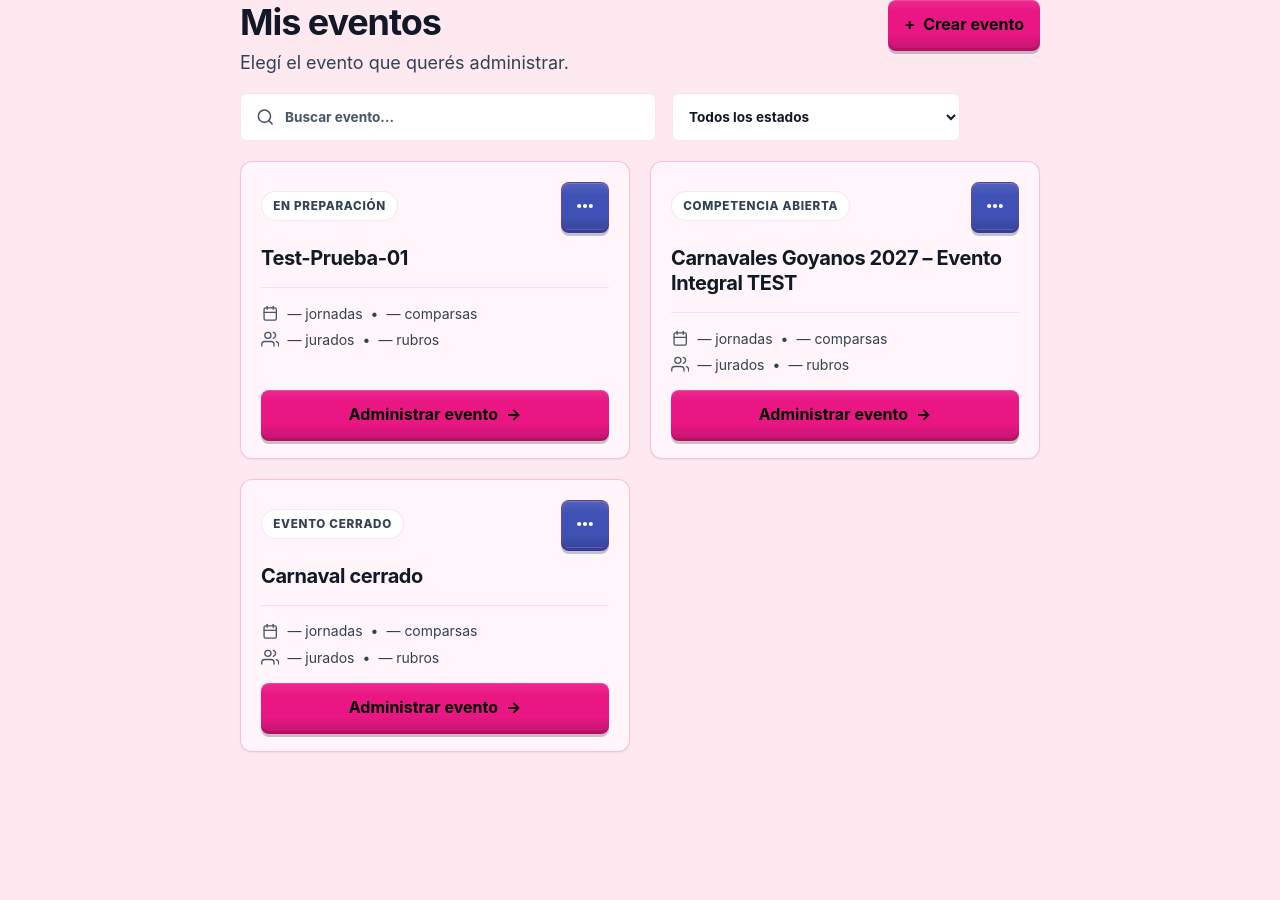
Test case: AdminHomePage (Rediseño a Mis eventos) › muestra mensaje de error humano cuando la API rechaza la eliminación por historial
This screenshot has width=1280, height=900.
Click the button named "Acciones de Test-Prueba-01" at (585, 206), box [561, 182, 609, 230]
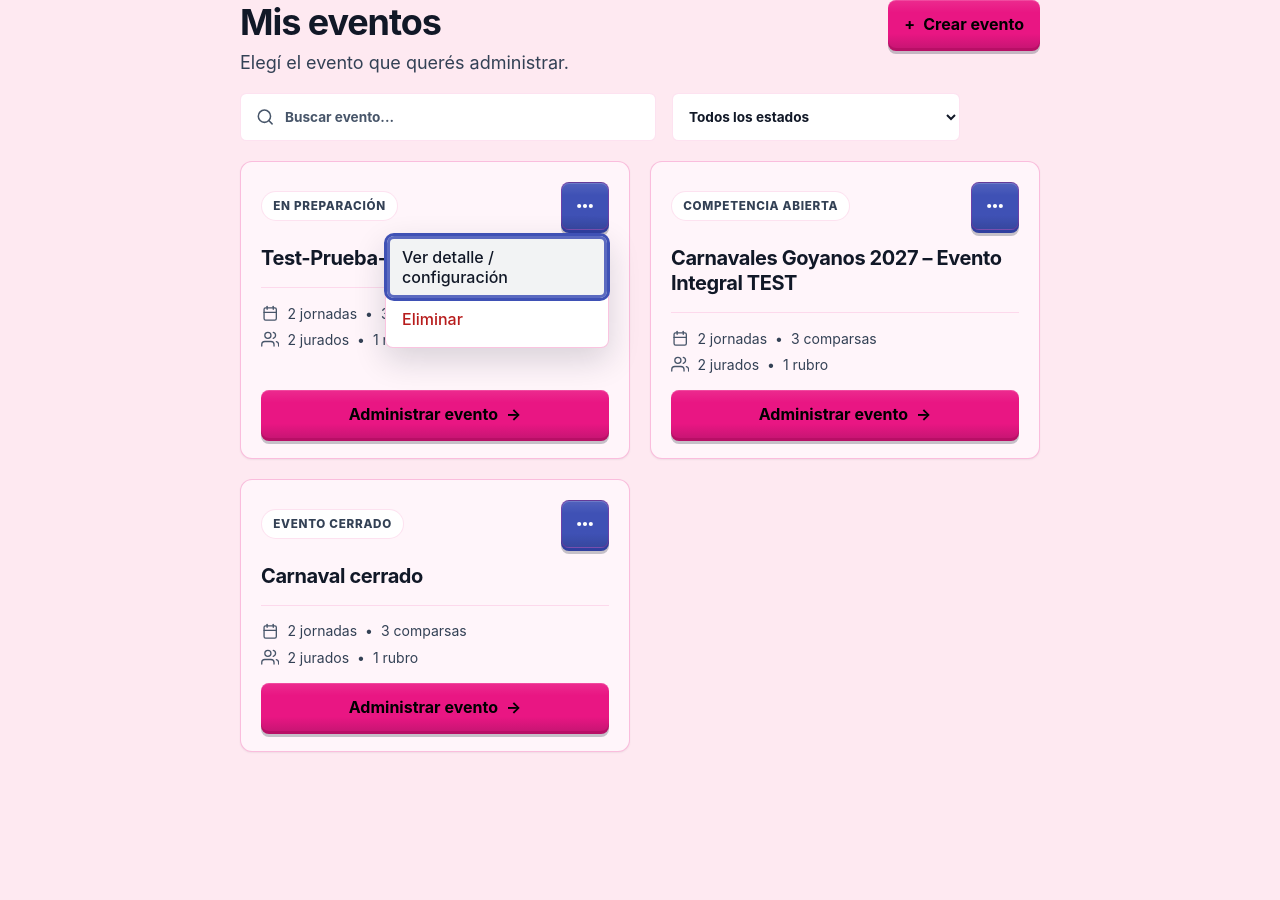
Click the menu item "Eliminar" at (497, 319), box [390, 295, 604, 343]
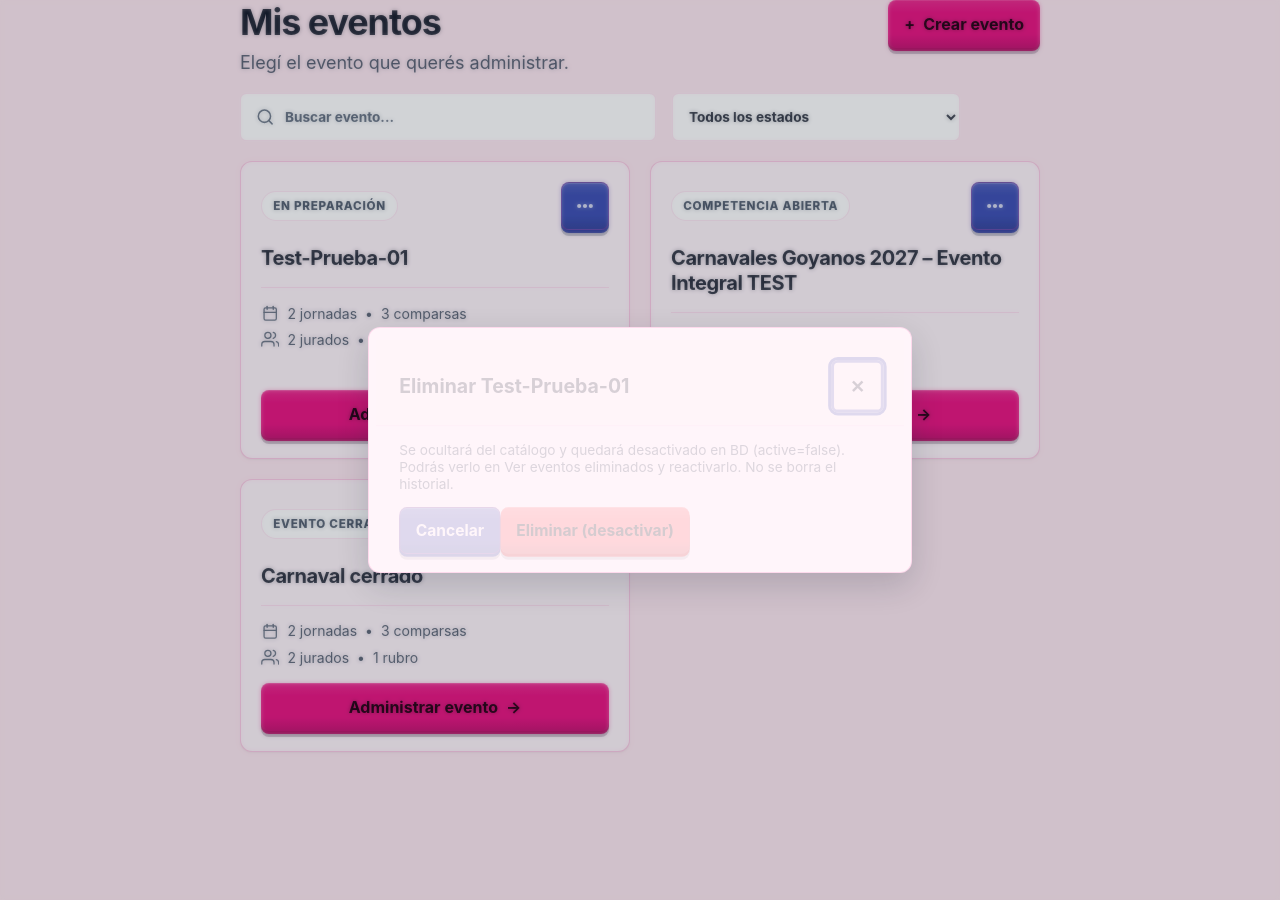
Click the button "Eliminar (desactivar)" at (595, 530), box [501, 507, 690, 554]
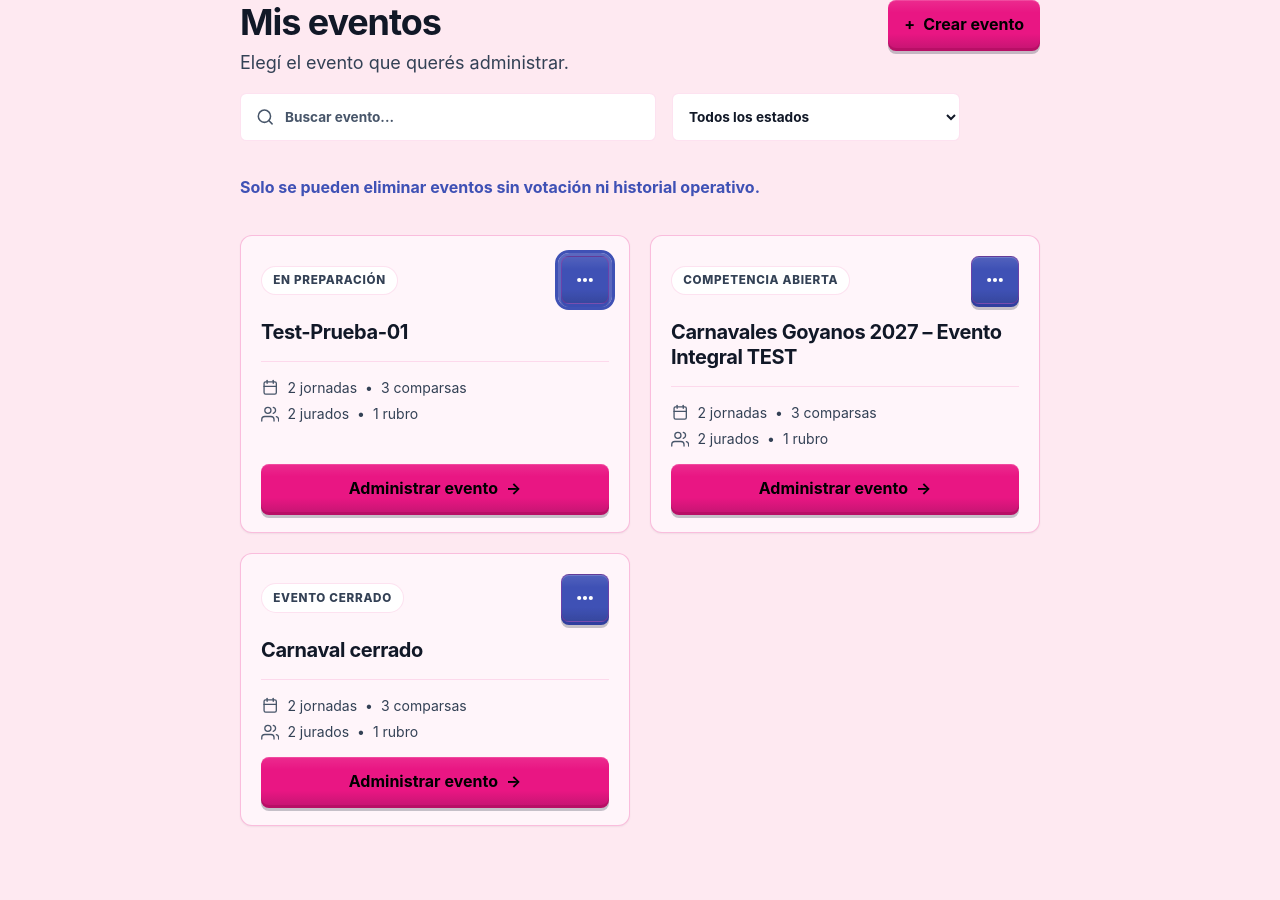
Check: the text "Solo se pueden eliminar eventos sin votación ni historial operativo." is shown, box [240, 177, 760, 197]
